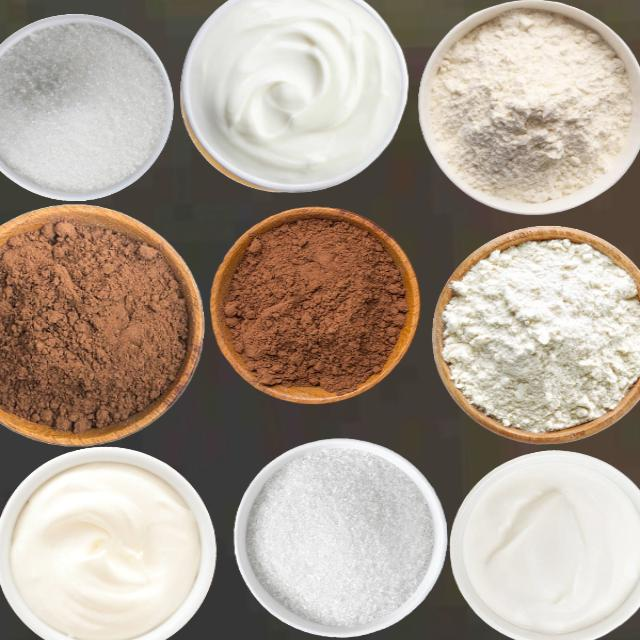Cocoa: (0, 211, 191, 435), (221, 215, 408, 394)
Flour: (428, 7, 633, 203), (440, 237, 639, 433)
Sugar: (245, 444, 434, 628), (0, 19, 168, 193)
